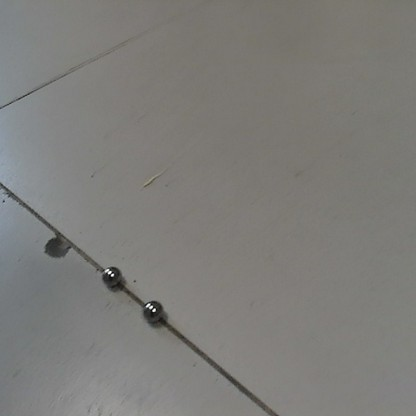ironball: (99, 262, 124, 292), (141, 297, 164, 324)
